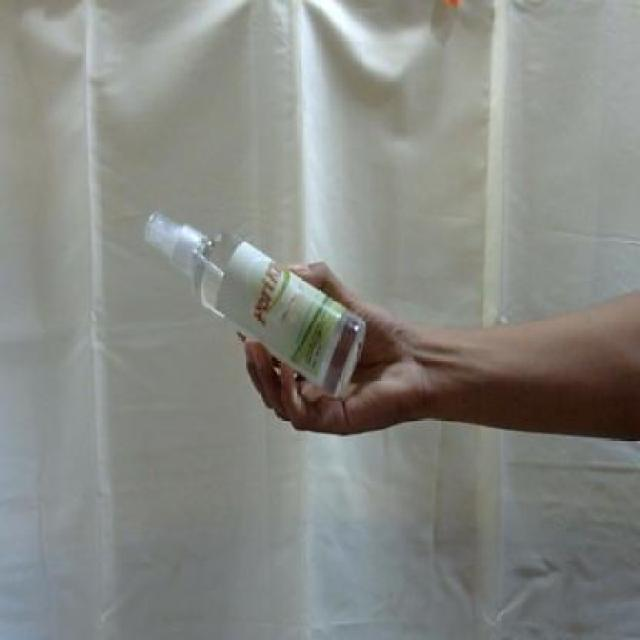Plastic: (147, 214, 367, 393)
